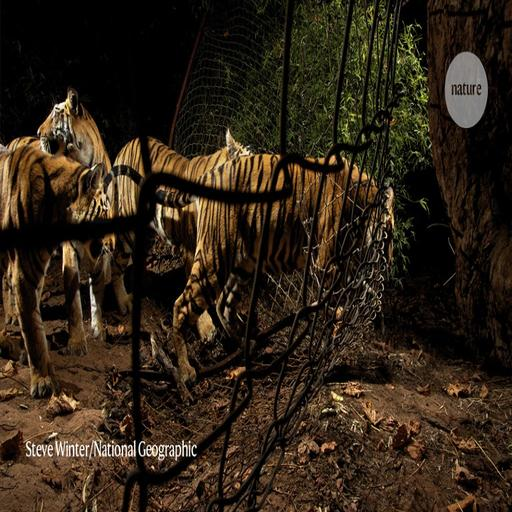Tiger: (165, 151, 409, 368), (83, 116, 289, 336), (13, 86, 128, 390), (0, 133, 115, 402)
